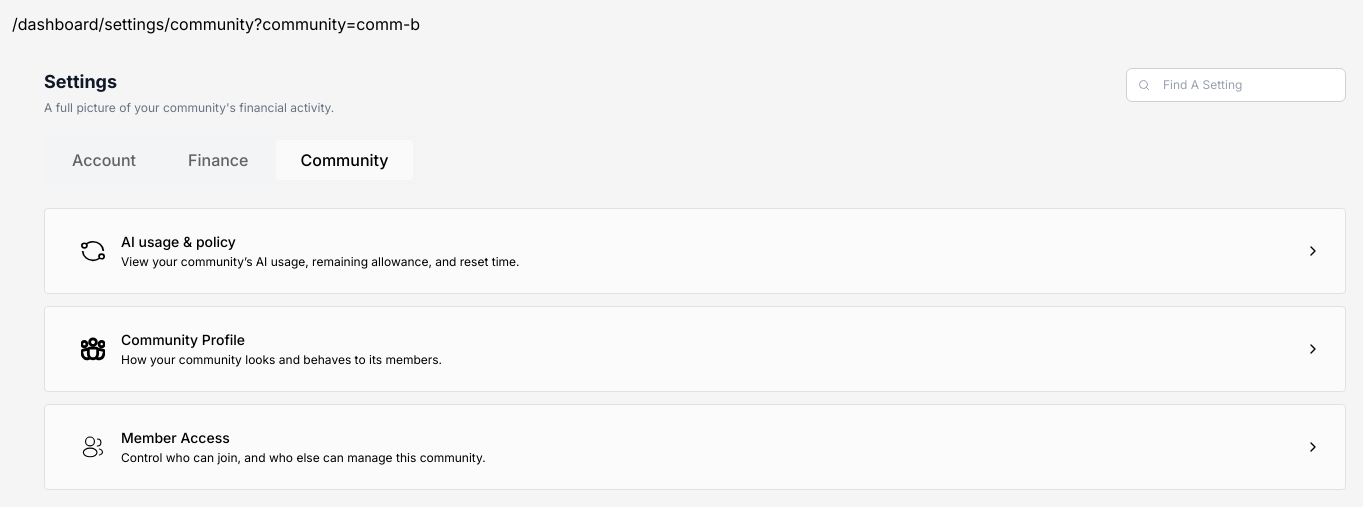
Test: Settings community context -- community-scoped destinations › preserves an existing ?community= rather than replacing it with another community
This screenshot has width=1363, height=507.
Click the button "Member Access".
click(175, 438)  # box [44, 404, 1346, 490]
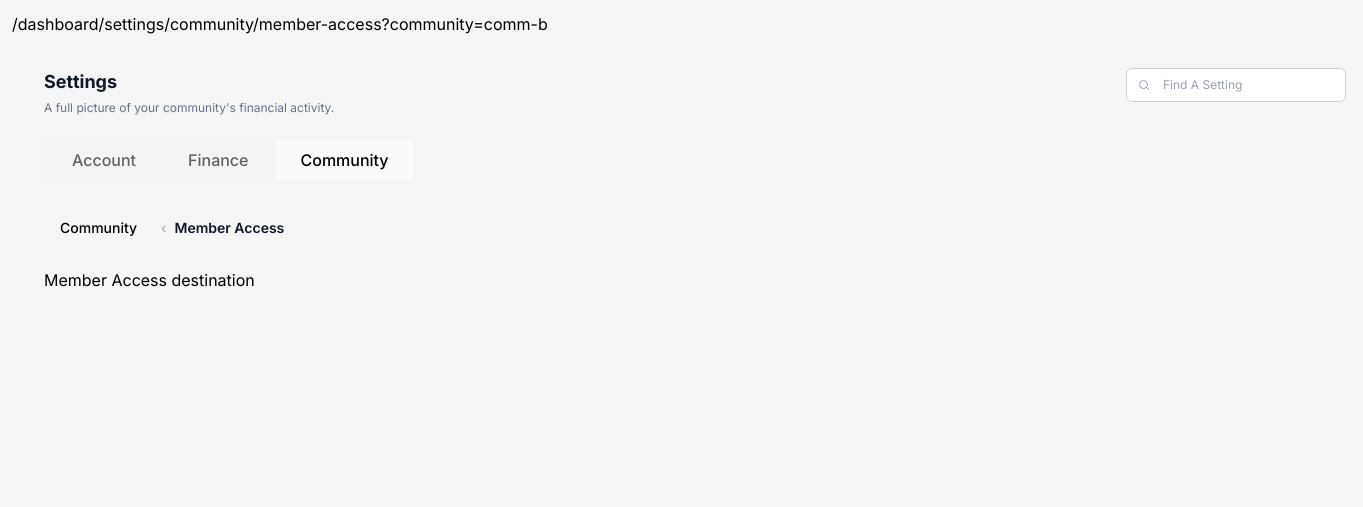
Now the text "Member Access destination" is shown, box [44, 270, 255, 290]
Now the text with test id "location" reads "/dashboard/settings/community/member-access?community=comm-b", box [12, 14, 548, 34]
